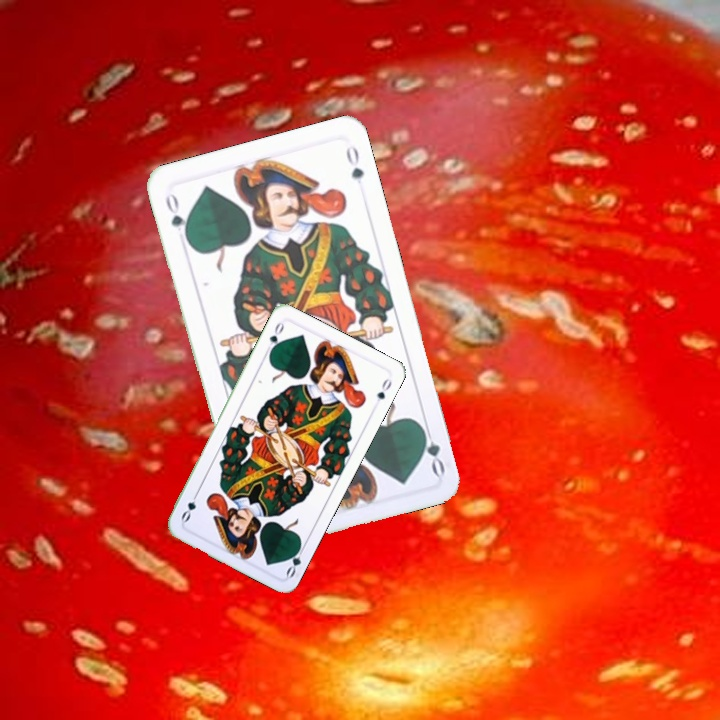GO: (416, 419, 448, 478), (161, 189, 191, 245), (282, 540, 308, 580), (262, 318, 287, 357)
